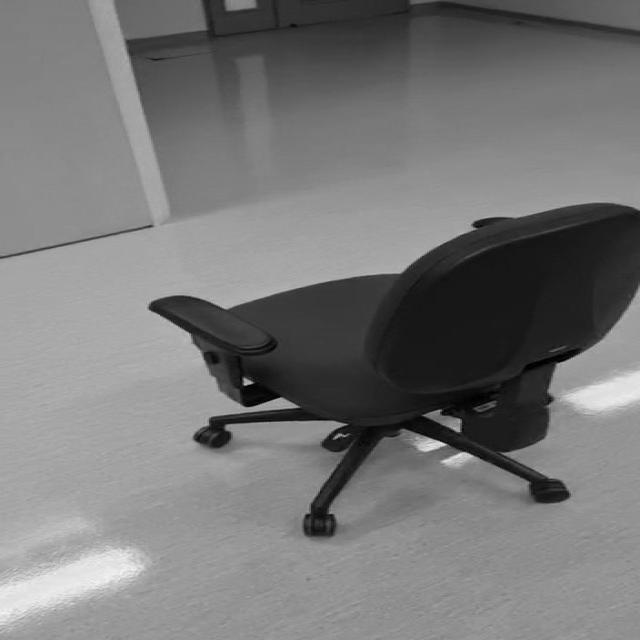chair: (150, 201, 640, 537)
